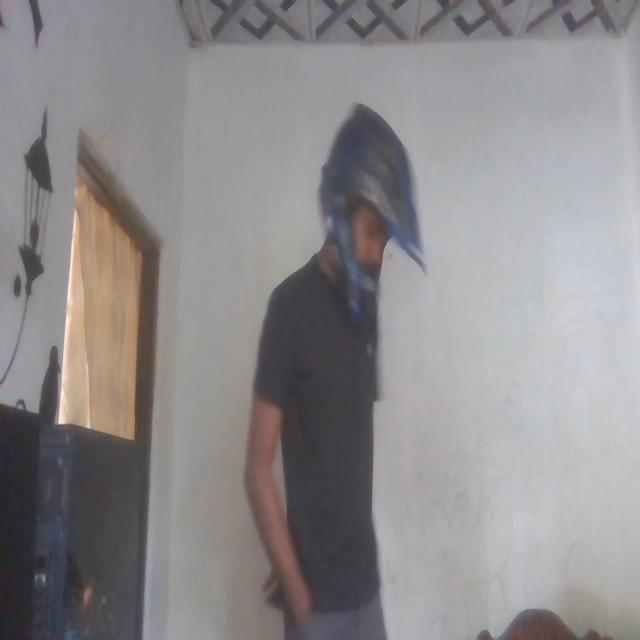Helmet_Wearer: (322, 98, 424, 322)
Person: (252, 122, 420, 640)
